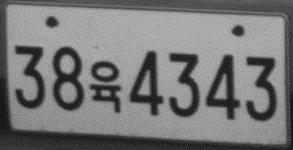3: (245, 55, 277, 122), (13, 44, 45, 109), (168, 52, 200, 117)
4: (129, 48, 164, 115), (205, 53, 240, 120)
8: (52, 46, 84, 111)
육: (88, 59, 122, 115)
